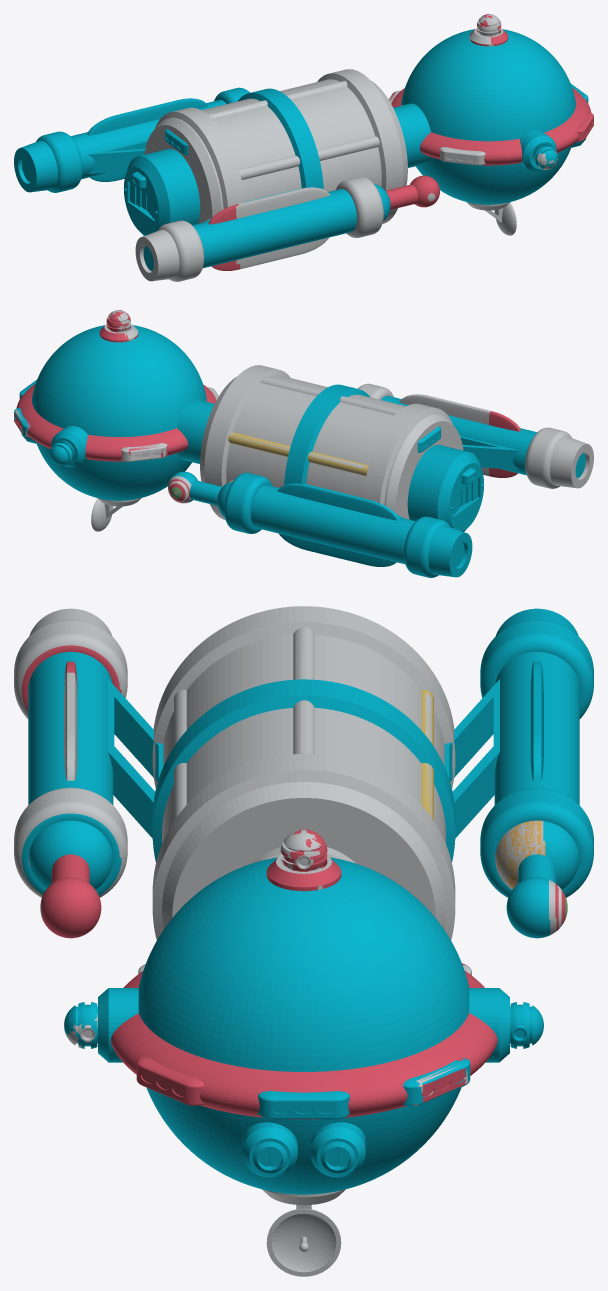
The model's file is Earth Light Cruiser v2.1.glb.
3 views of the same model, one above another, from view 1: azimuth 30°, elevation 25°; view 2: azimuth 150°, elevation 25°; view 3: azimuth 270°, elevation 25° (orthographic). The views are drawn at different scales.
Parts seen in each view (by area): view 1: Mesh_Mesh_head_geo.001_lambert2SG.001; view 2: Mesh_Mesh_head_geo.001_lambert2SG.001; view 3: Mesh_Mesh_head_geo.001_lambert2SG.001.
Part boxes in pixels (box(x1,y1,x2,y2)): Mesh_Mesh_head_geo.001_lambert2SG.001: box(14, 14, 593, 281); Mesh_Mesh_head_geo.001_lambert2SG.001: box(14, 310, 593, 577); Mesh_Mesh_head_geo.001_lambert2SG.001: box(14, 606, 593, 1276).
Bounding box in the file's own units: 161 × 69.7 × 85.5.
